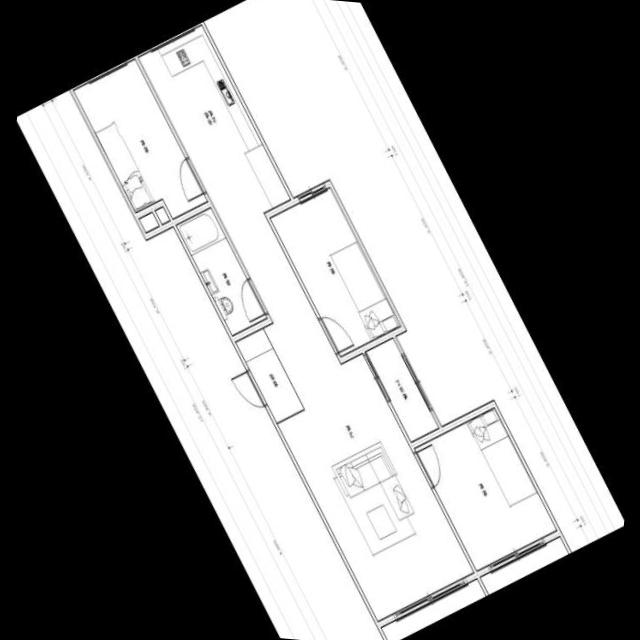background: (16, 0, 624, 640)
space_balconi: (364, 337, 438, 440), (380, 578, 485, 640), (479, 535, 568, 593)
space_bedroom: (414, 407, 555, 569), (269, 186, 400, 355), (72, 57, 206, 217)
space_front: (235, 327, 304, 422)
space_kitchen: (137, 23, 289, 230)
space_living_room: (226, 211, 473, 620)
space_other: (138, 211, 158, 231), (154, 206, 169, 222)
space_toilet: (175, 206, 266, 334)
